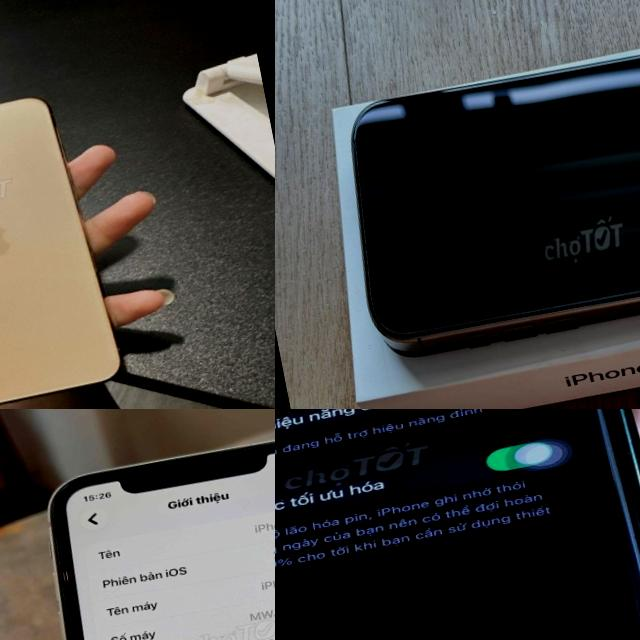gen_11: (15, 414, 275, 640), (0, 85, 143, 409)
gen_16: (319, 18, 640, 380)
gen_x_xs: (275, 409, 640, 640)
